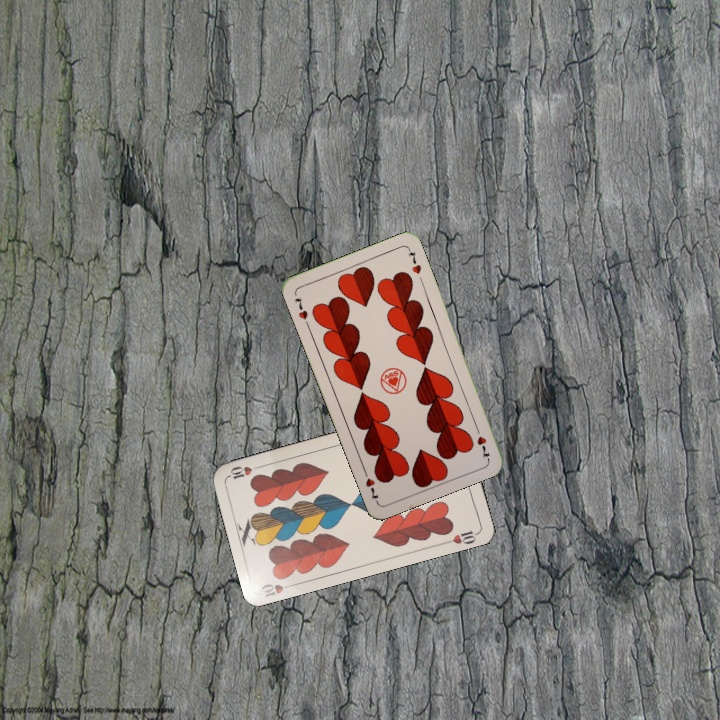H10: (256, 580, 298, 600)
H7: (471, 422, 492, 461), (291, 294, 312, 329)
